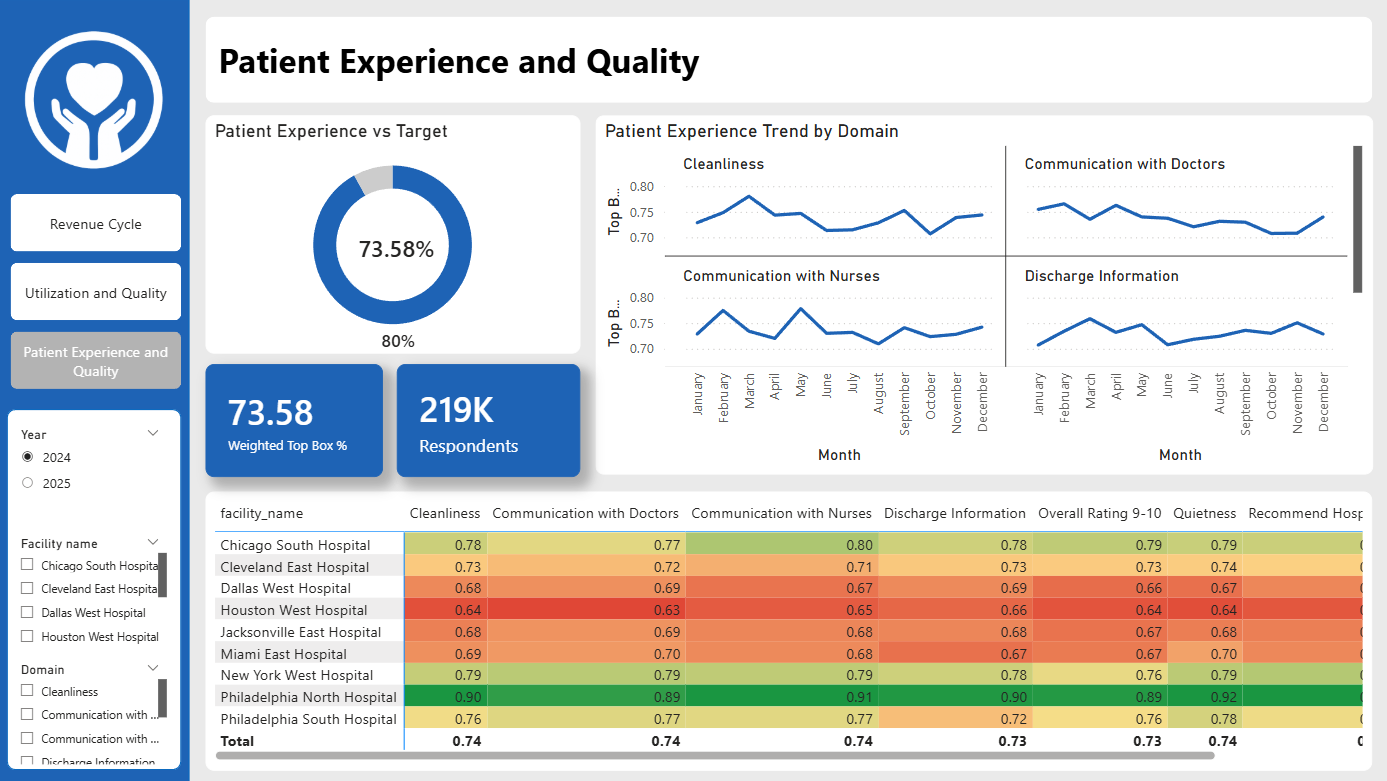

Layout of this report page (visuals, bound fields, positions):
{"tool":"powerbi","page":{"name":"Patient Experience and Quality","canvas":[1280,720],"ordinal":2},"visuals":[{"type":"shape","box":[0,0,176,720],"z":0},{"type":"image","box":[16,0,144,192],"z":1000},{"type":"shape","box":[190.7,16.5,1073.1,79.6],"z":2000},{"type":"pivotTable","fields":{"Rows":["dim_facility.facility_name"],"Columns":["curated_patient_experience_v.domain"],"Values":["curated_claim_line.Top Box Score (0-1)"]},"box":[190.7,452.8,1073.1,256.6],"z":3000},{"type":"lineChart","title":"Patient Experience Trend by Domain","fields":{"Category":["dim_date.date.Variation.Date Hierarchy.Month"],"Y":["curated_claim_line.Top Box Score (0-1)"],"Rows":["curated_patient_experience_v.domain"]},"box":[548.9,107,714.9,330.7],"z":4000},{"type":"shape","box":[8.2,377.4,160.5,332.1],"z":5000},{"type":"slicer","fields":{"Values":["curated_patient_experience_v.PX Year"]},"box":[8.2,388.3,152.3,100.2],"z":6000},{"type":"slicer","fields":{"Values":["dim_facility.facility_name"]},"box":[8.2,488.5,152.3,116.6],"z":7000},{"type":"slicer","fields":{"Values":["curated_patient_experience_v.domain"]},"box":[8.2,605.1,152.3,104.3],"z":8000},{"type":"cardVisual","fields":{"Data":["curated_claim_line.Weighted Top Box %"]},"box":[190.7,336.2,163.3,104.3],"z":9000},{"type":"cardVisual","fields":{"Data":["curated_claim_line.Respondents"]},"box":[366.4,336.2,168.8,104.3],"z":10000},{"type":"donutChart","title":"Patient Experience vs Target","fields":{"Y":["curated_claim_line.Top Box Progress to Target","curated_claim_line.Top Box Remaining to Target"]},"box":[190.7,107,344.4,219.6],"z":11000},{"type":"cardVisual","fields":{"Data":["curated_claim_line.Top Box Score (0-1) 2"]},"box":[312.9,192.1,108.4,71.4],"z":12000},{"type":"cardVisual","fields":{"Data":["curated_claim_line.Top Box Target (0-1)"]},"box":[282.7,296.4,171.5,30.2],"z":13000},{"type":"pageNavigator","box":[11,179.8,157.8,179.8],"z":14000}]}

Visuals, with their boxes on the page's 1280x720 design canvas (x1, y1, x2, y2). These are canvas units, not pixel positions in the 1387x781 screenshot, which may show the page scaled, cropped or inside an application window:
shape: BBox(0, 0, 176, 720)
image: BBox(16, 0, 160, 192)
shape: BBox(191, 16, 1264, 96)
pivotTable - dim_facility.facility_name x curated_patient_experience_v.domain: BBox(191, 453, 1264, 709)
"Patient Experience Trend by Domain" lineChart: BBox(549, 107, 1264, 438)
shape: BBox(8, 377, 169, 710)
slicer - curated_patient_experience_v.PX Year: BBox(8, 388, 160, 488)
slicer - dim_facility.facility_name: BBox(8, 488, 160, 605)
slicer - curated_patient_experience_v.domain: BBox(8, 605, 160, 709)
cardVisual - curated_claim_line.Weighted Top Box %: BBox(191, 336, 354, 440)
cardVisual - curated_claim_line.Respondents: BBox(366, 336, 535, 440)
"Patient Experience vs Target" donutChart: BBox(191, 107, 535, 327)
cardVisual - curated_claim_line.Top Box Score (0-1) 2: BBox(313, 192, 421, 264)
cardVisual - curated_claim_line.Top Box Target (0-1): BBox(283, 296, 454, 327)
pageNavigator: BBox(11, 180, 169, 360)
